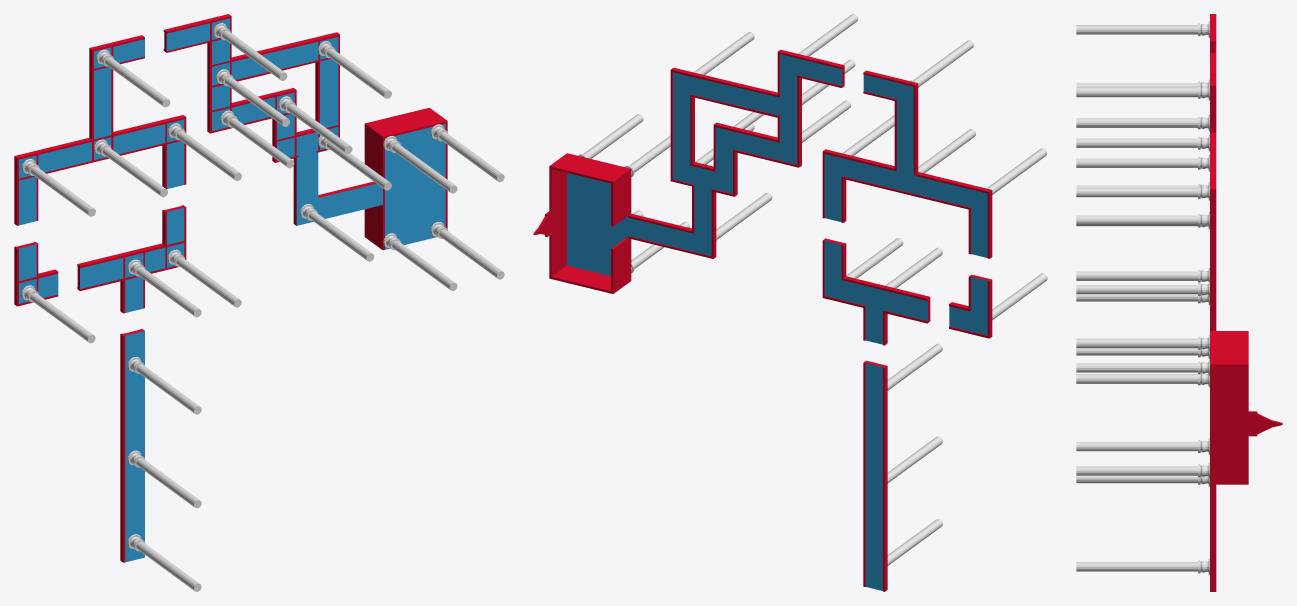
Rendered from LvL01.fbx.
The picture shows the model from 3 angles, left to right: view 1: azimuth 30°, elevation 25°; view 2: azimuth 150°, elevation 25°; view 3: azimuth 270°, elevation 25°; orthographic projection. The views are drawn at different scales.
Parts seen in each view (by area): view 1: LvL01, pillars; view 2: LvL01, pillars; view 3: pillars, LvL01.
Part boxes in pixels (x1,y1,x2,y2): LvL01: (14,14,447,562); pillars: (21,23,504,591); LvL01: (533,49,992,591); pillars: (578,14,1047,565); pillars: (1076,21,1209,575); LvL01: (1210,14,1282,591).
Size of the model in its own units: 1987 by 2295 by 780.
